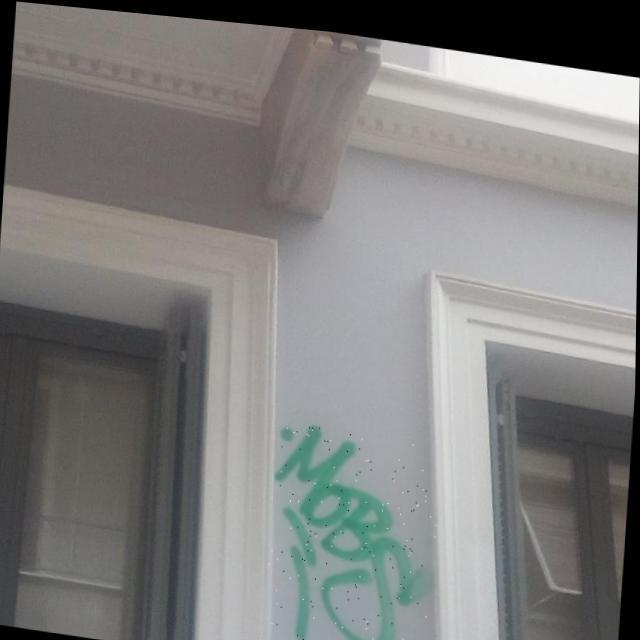-: (264, 413, 444, 640)
